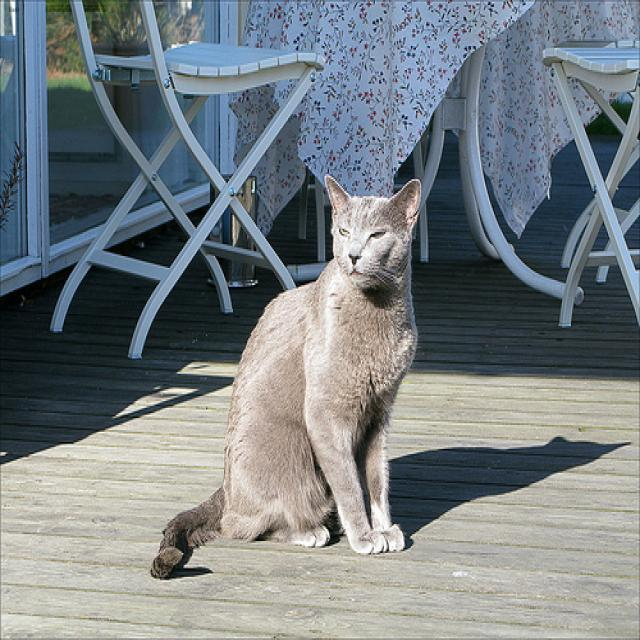Russian_Blue: (321, 167, 427, 294)
